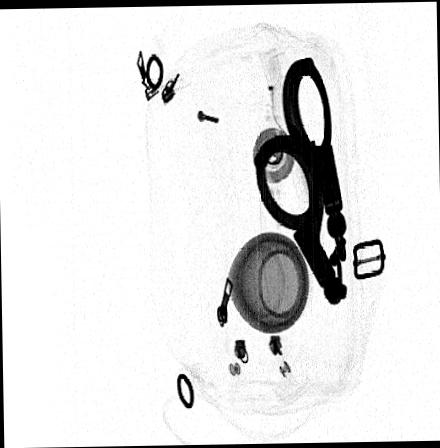HandCuffs: (251, 52, 350, 307)
